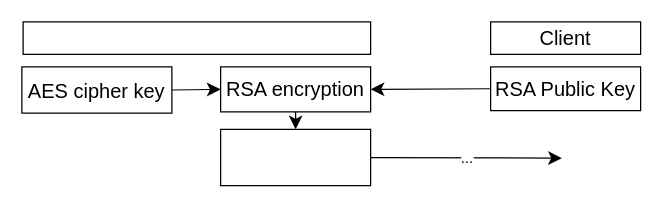
The diagram is 663 pixels wide and 208 high, and some of its shapes have lost their labels. Each missing label, with the box of its shape:
Encrypted AES cipher key: (219, 128, 371, 186)
Server: (22, 21, 371, 54)
